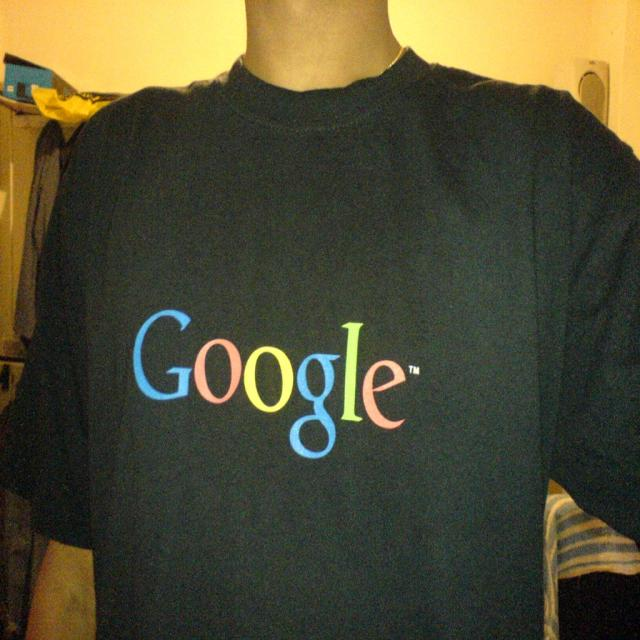google: (129, 303, 409, 467)
